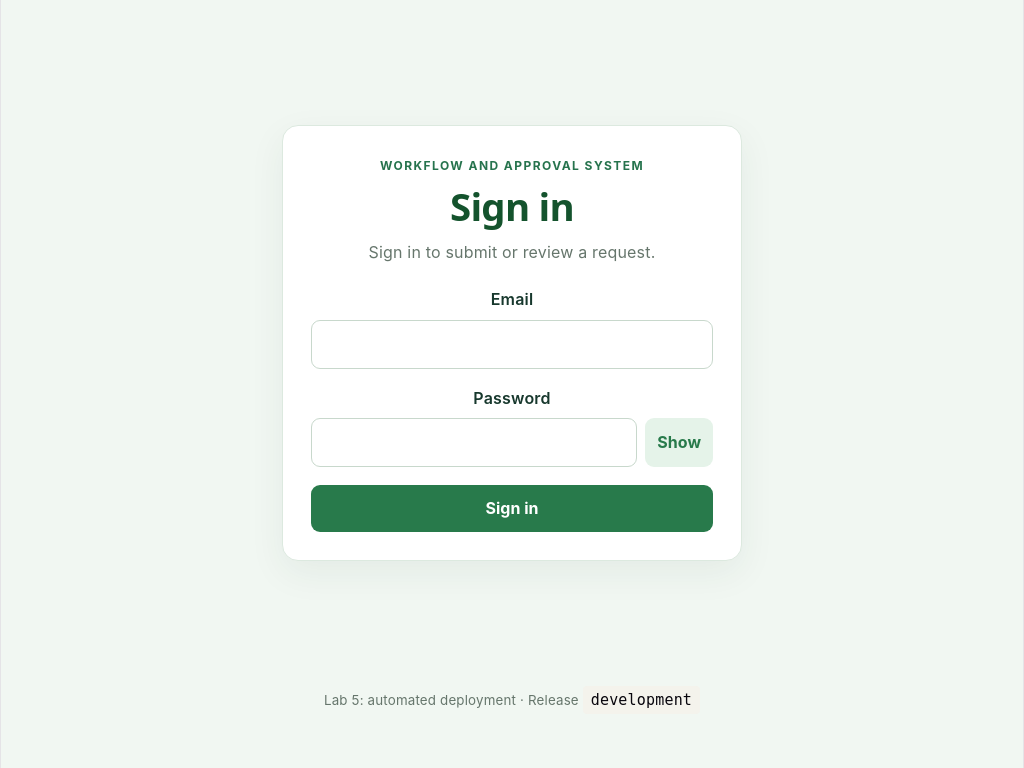
it: Requester website journey › TEST-UI-01: signs in, submits a request, and shows its Pending status
Step 1. Type "requester@example.test" into the field labelled "Email" → (512, 344), box [311,320,713,369]
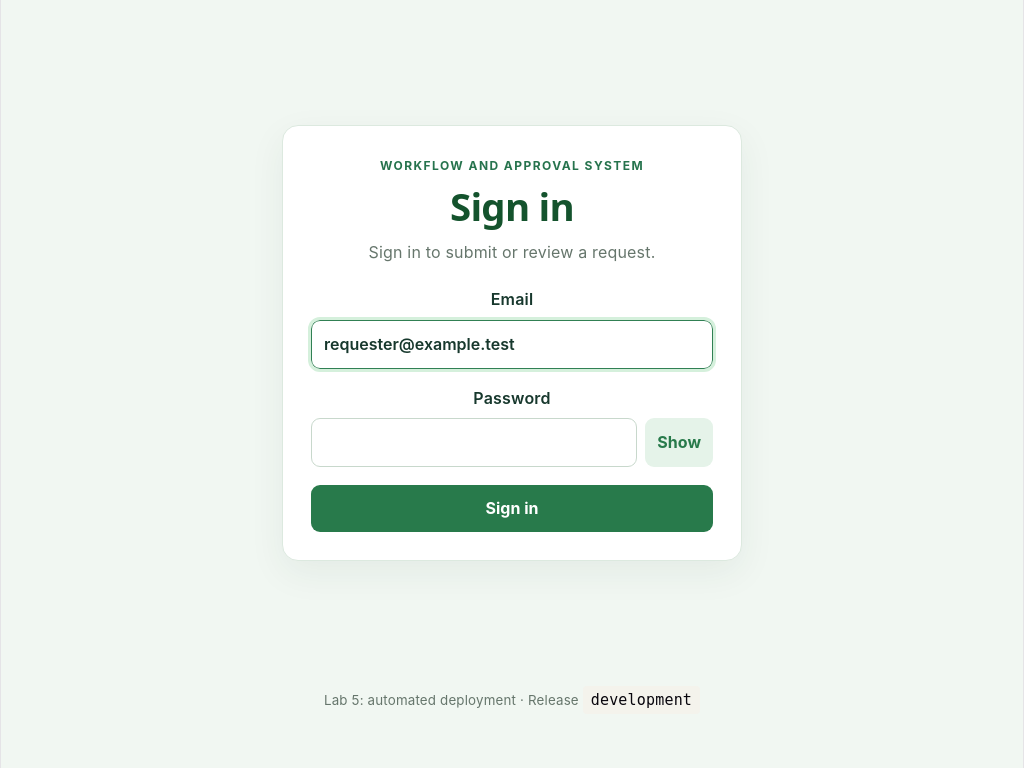
Step 2. Type "demo-password" into the password field labelled "Password" → (474, 443), box [311,418,637,467]
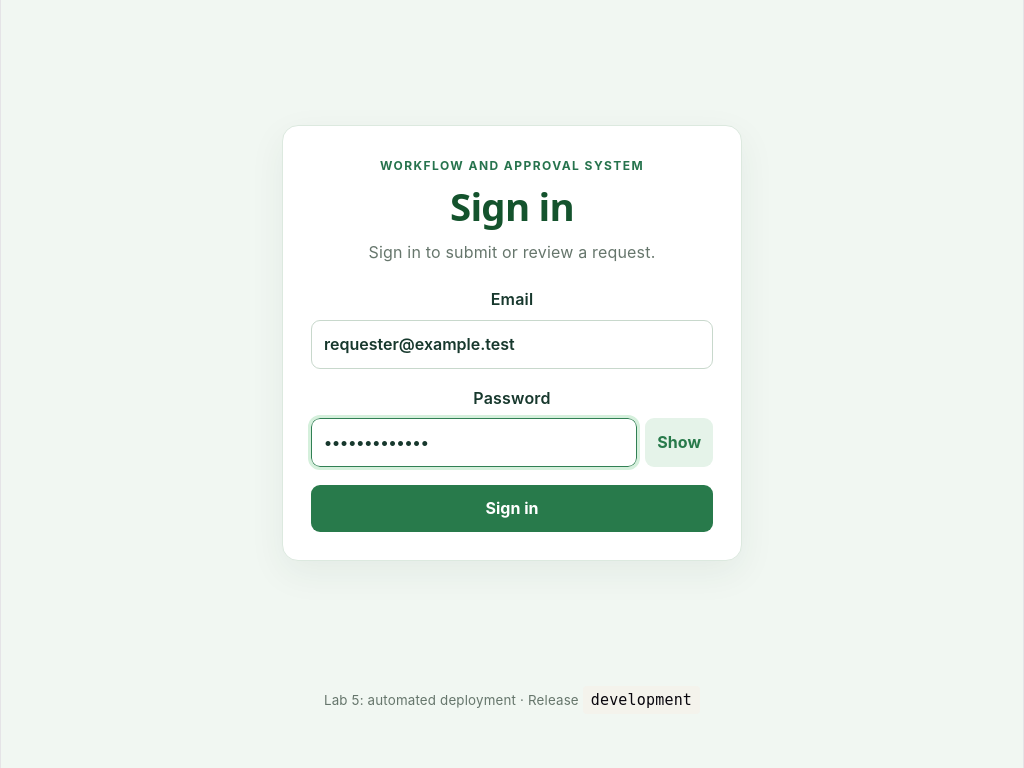
Step 3. Click the button "Sign in" → click(512, 509), box [311,485,713,532]
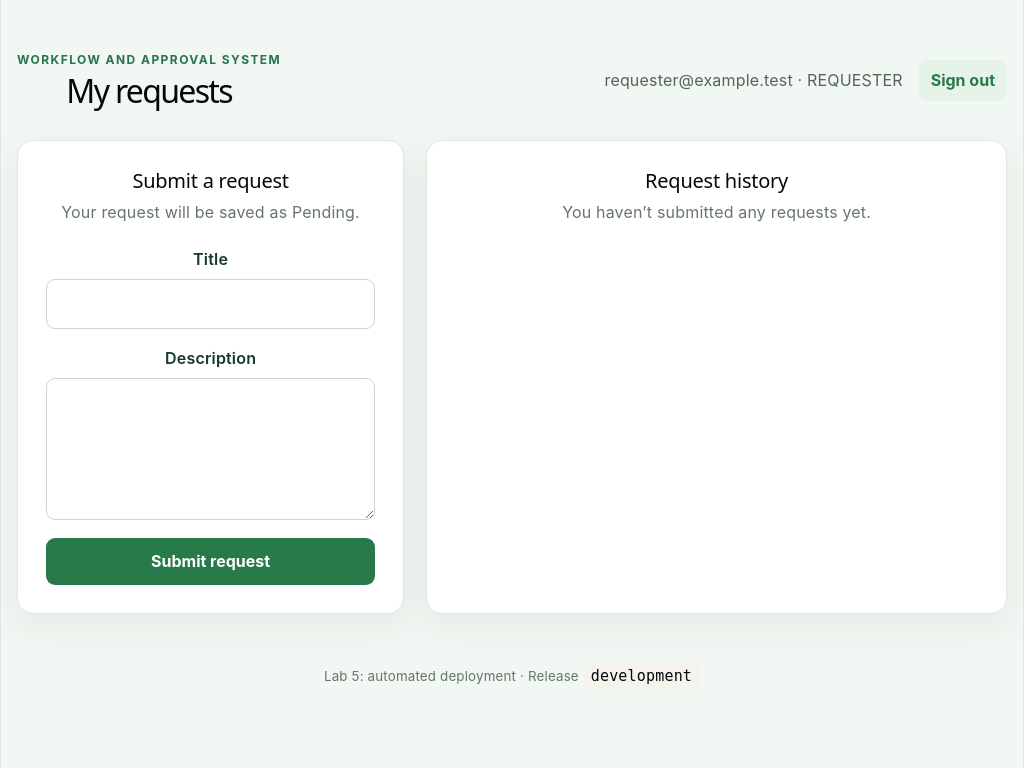
Step 4. Type "UI test request" into the field labelled "Title" → (211, 304), box [46,279,375,329]
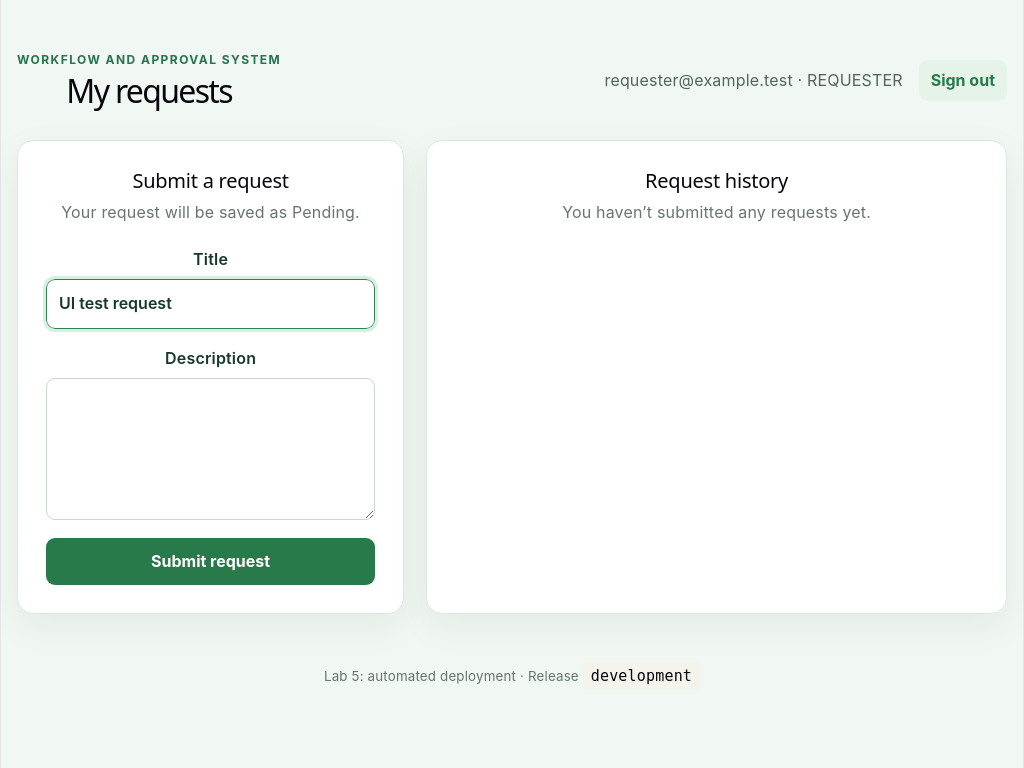
Step 5. Type "Checking the Requester submission screen" into the text box labelled "Description" → (211, 449), box [46,378,375,520]
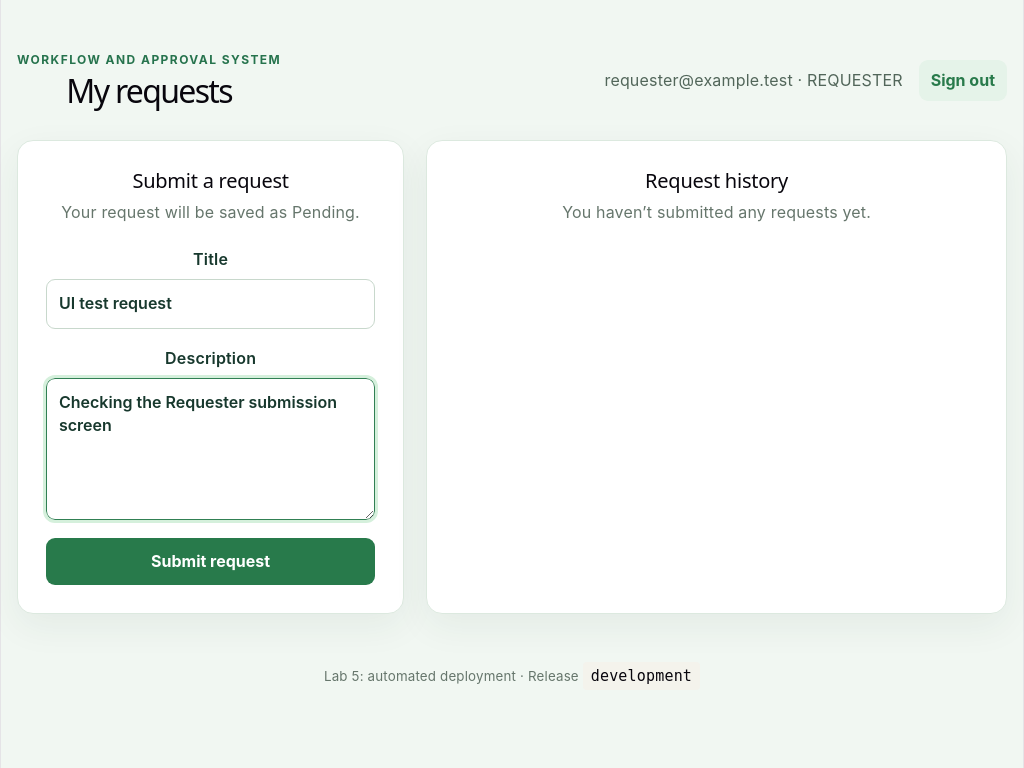
Step 6. Click the button "Submit request" → click(211, 561), box [46,538,375,585]
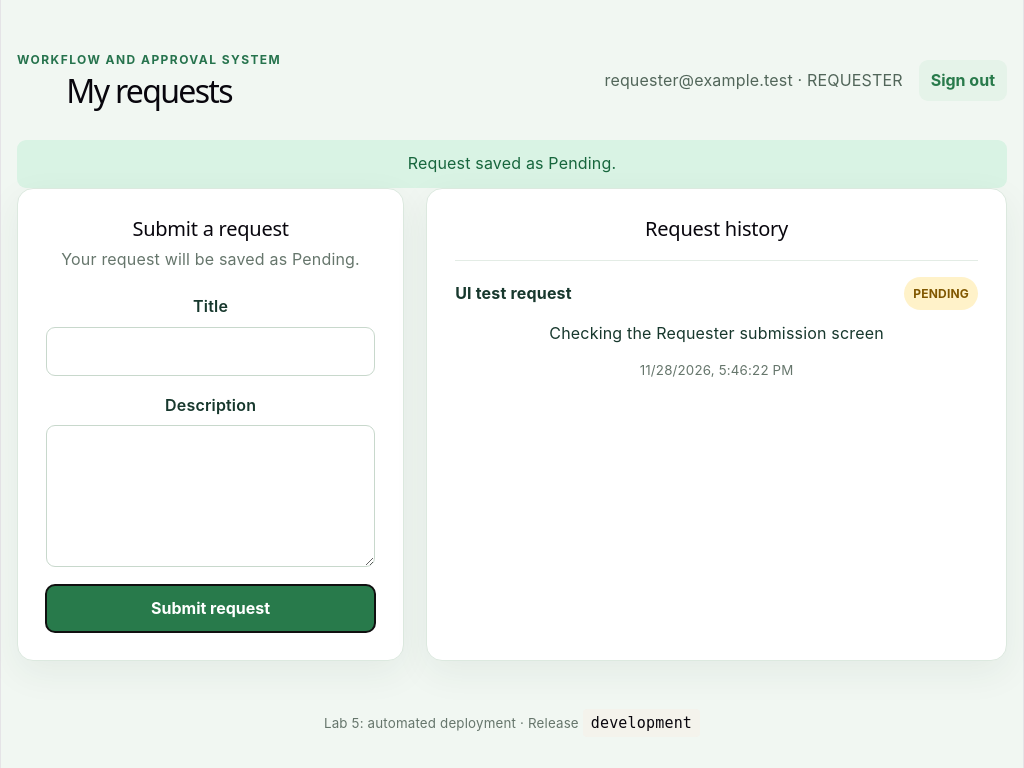
Now the text "UI test request" is shown, box [455,282,572,305]
Now the text "PENDING" is shown, box [904,277,978,310]
